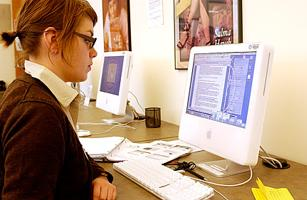person: (1, 1, 117, 200)
